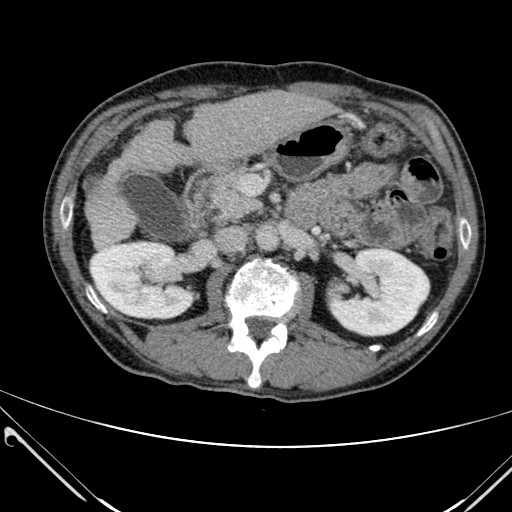vesicula: (119, 171, 184, 241)
